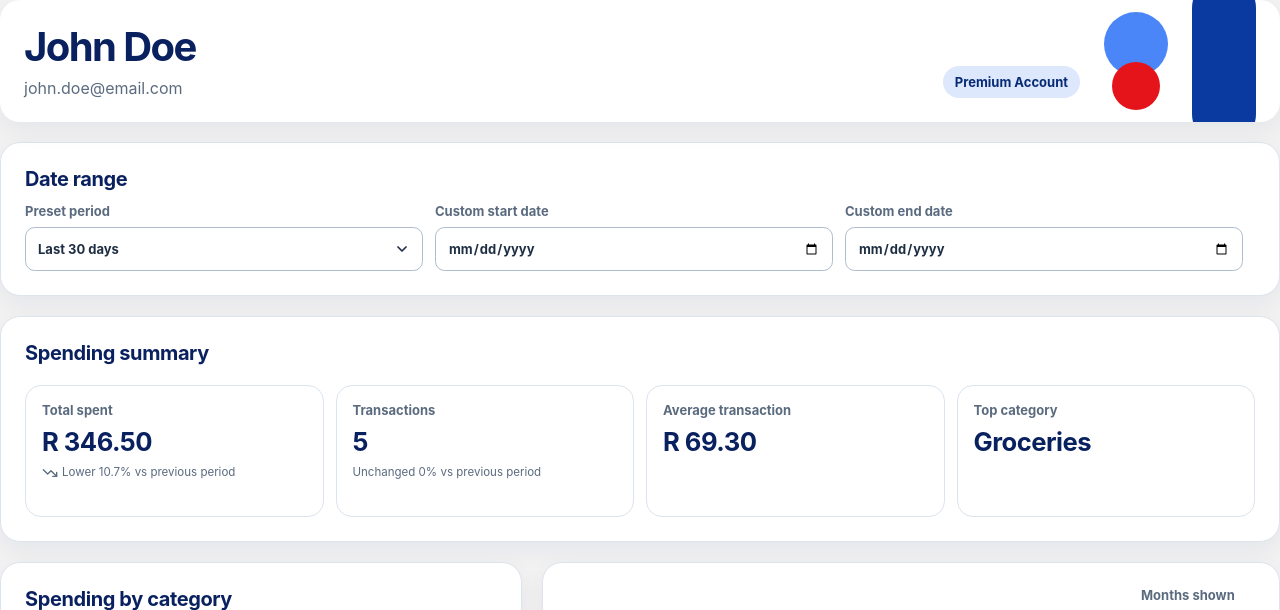
it: DashboardPage › clears the custom dates when the preset period changes
Type "2024-02-01" into the date field labelled "Custom start date". click: (634, 249)
box: [435,227,833,271]
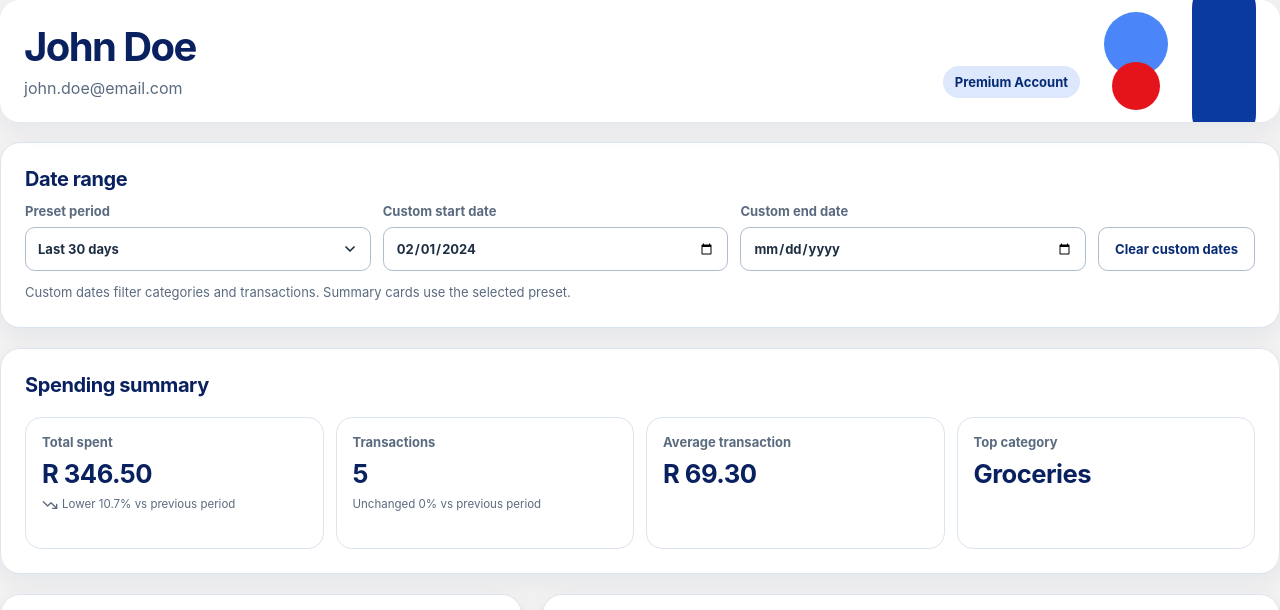
Type "2024-02-10" into the date field labelled "Custom end date". click: (913, 249)
box: [740,227,1086,271]
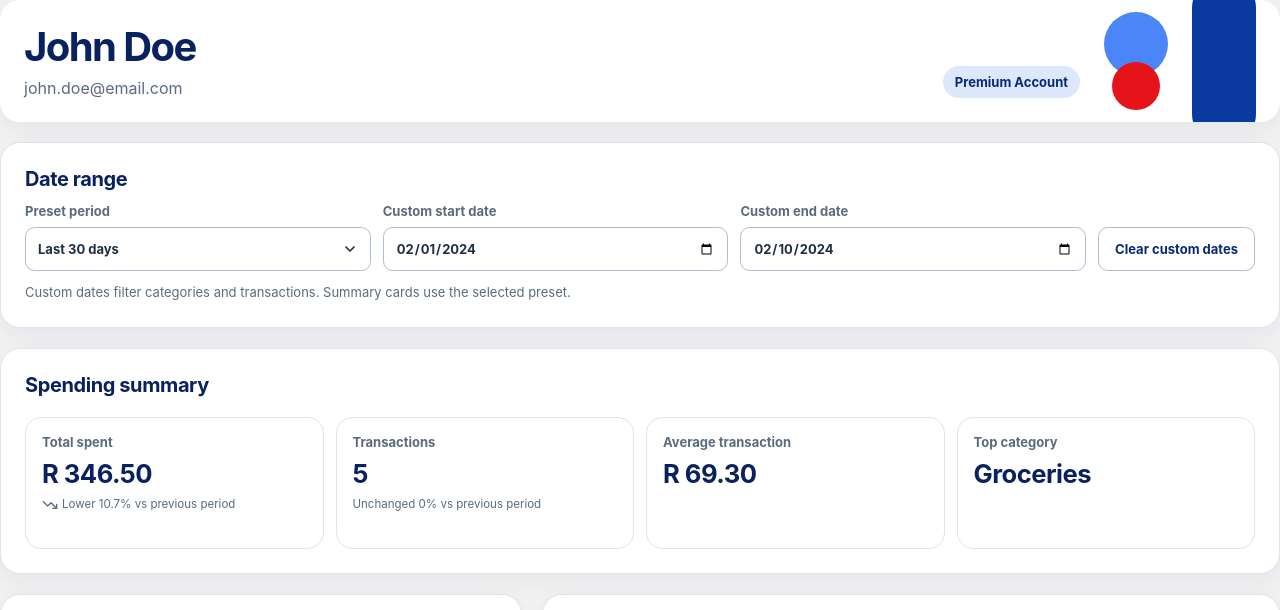
Select "Last 7 days" in the dropdown labelled "Preset period". click: (198, 249)
box: [25,227,371,271]
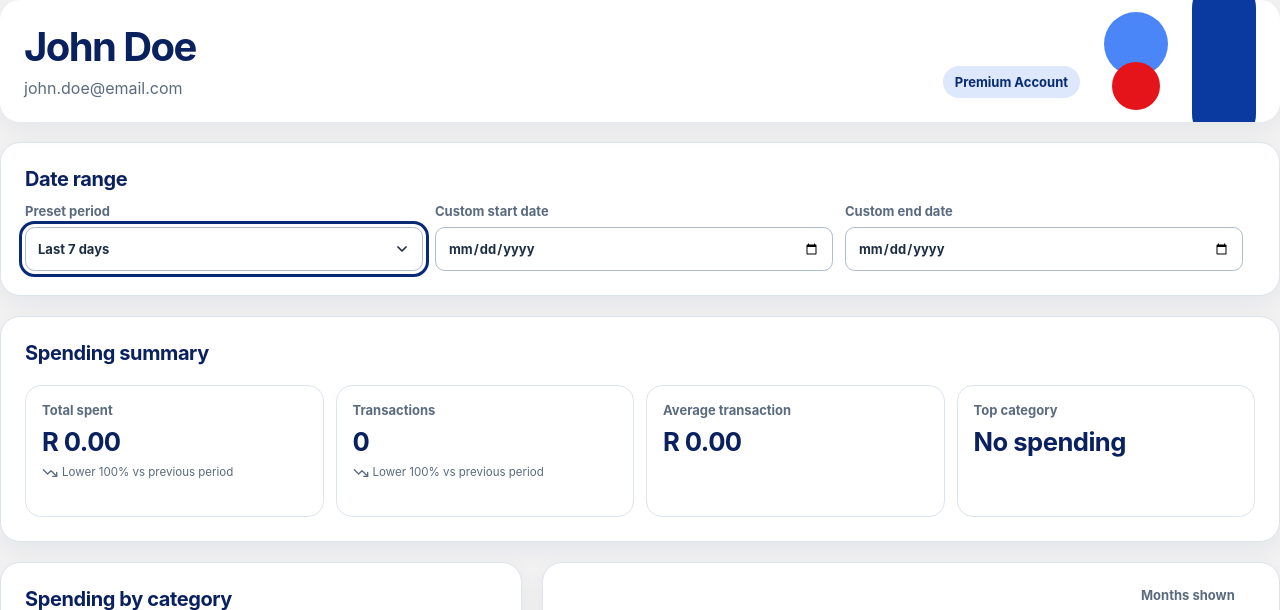
expect the date field labelled "Custom start date" is empty: met, box [435,227,833,271]
expect the date field labelled "Custom end date" is empty: met, box [845,227,1243,271]
expect the button "Clear custom dates" is gone: met
